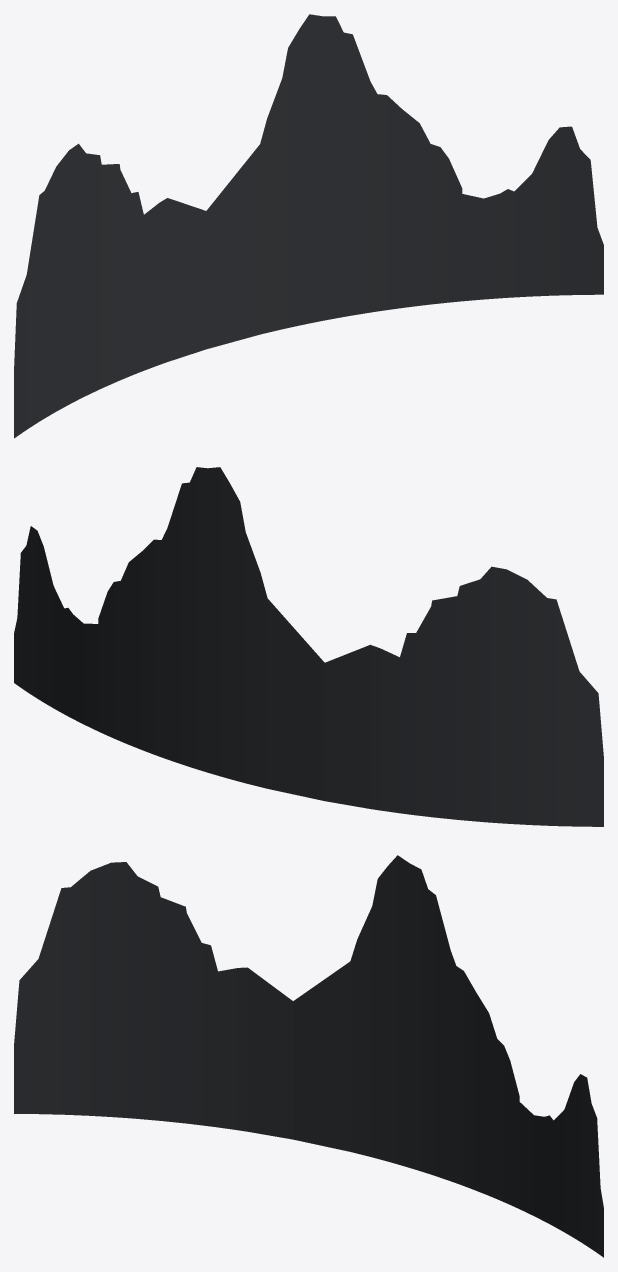
The model's file is bg-range-c.glb.
3 views of the same model, one above another, from view 1: azimuth 30°, elevation 25°; view 2: azimuth 150°, elevation 25°; view 3: azimuth 330°, elevation 25° (orthographic).
Visible parts, largest first — view 1: SM_Gen_Env_Background_Mountain_03; view 2: SM_Gen_Env_Background_Mountain_03; view 3: SM_Gen_Env_Background_Mountain_03.
Boxes of the visible parts, x1,y1,x2,y2 form: SM_Gen_Env_Background_Mountain_03: [14, 14, 603, 438]; SM_Gen_Env_Background_Mountain_03: [14, 467, 603, 826]; SM_Gen_Env_Background_Mountain_03: [14, 855, 603, 1257].
Size of the model in its own units: 101 by 50.46 by 13.34.
Materials: 1 (1 with a texture image).
